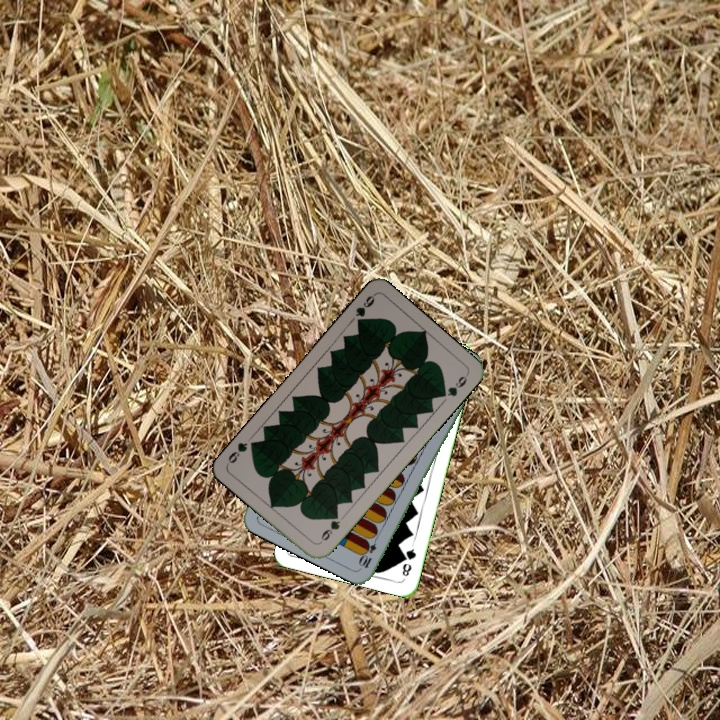E10: (356, 531, 381, 571)
G8: (398, 541, 419, 579)
G9: (351, 290, 378, 329), (315, 510, 343, 546)
